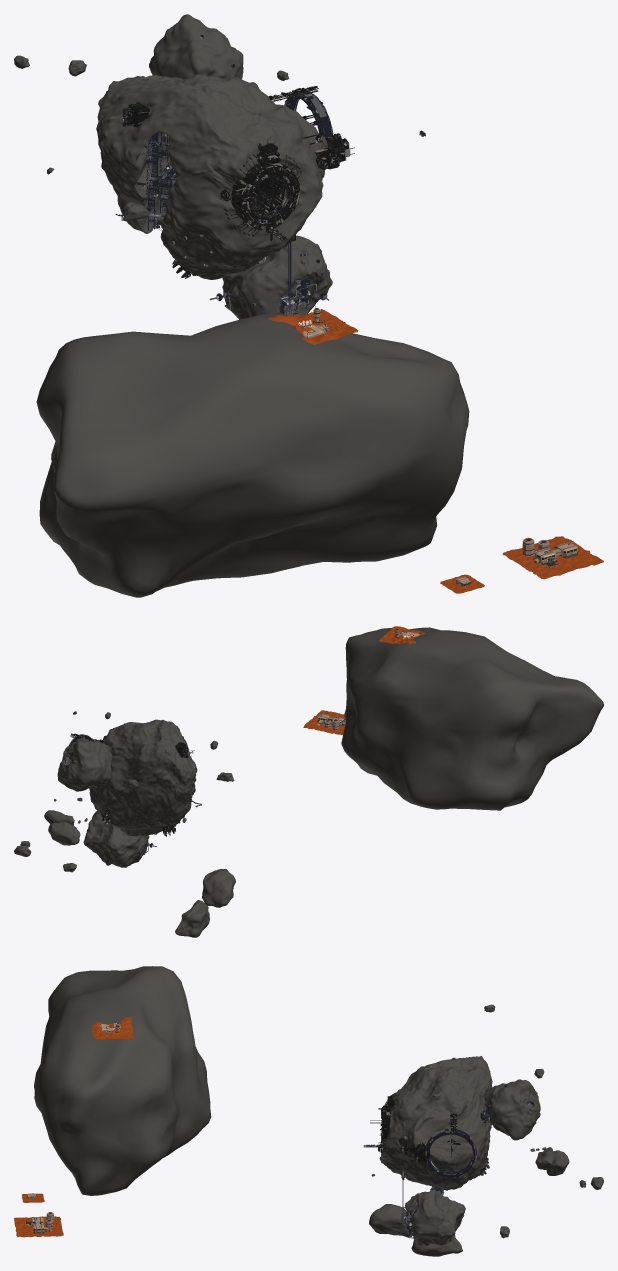
File: stationL2.glb
3 renders of one model, top to bottom at view 1: azimuth 30°, elevation 25°; view 2: azimuth 150°, elevation 25°; view 3: azimuth 270°, elevation 25°, orthographic. The views are drawn at different scales.
Visible parts, largest first — view 1: Plane.002, stationL, Plane.003, Cylinder, asteroid; view 2: Plane.002, stationL, asteroid, Cylinder, Plane.003; view 3: Plane.002, stationL, asteroid, Cylinder, Plane.003.
Boxes of the visible parts, x1,y1,x2,y2 form: Plane.002: (36,313,469,597); stationL: (96,14,354,319); Plane.003: (502,536,603,579); Cylinder: (268,306,358,344); asteroid: (14,55,305,264); Plane.002: (341,627,603,810); stationL: (57,719,201,867); asteroid: (14,712,235,937); Cylinder: (379,626,425,643); Plane.003: (303,710,345,734); Plane.002: (34,966,211,1195); stationL: (363,1056,540,1245); asteroid: (369,1004,603,1256); Cylinder: (92,1016,134,1039); Plane.003: (14,1216,63,1237).
Size of the model in its own units: 340 by 191 by 449.
11 materials, 2 textured.
